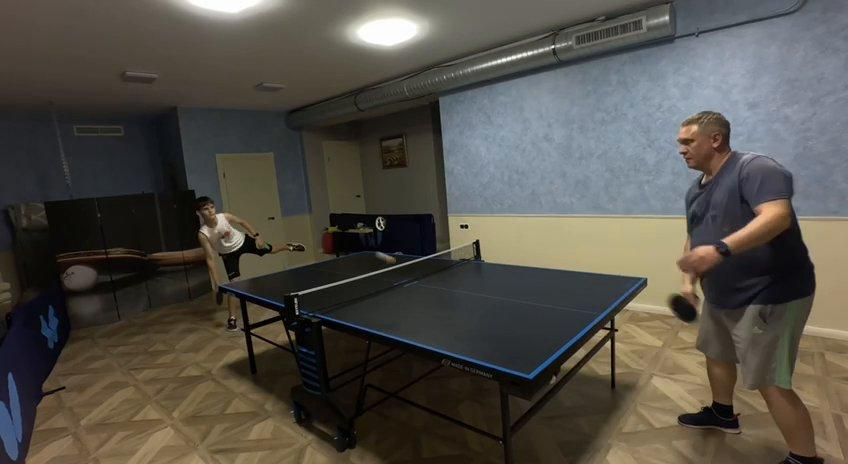Ball: (374, 251, 398, 264)
Net: (284, 240, 481, 321)
Player1: (195, 196, 311, 303)
Player2: (677, 113, 823, 463)
Table: (227, 254, 646, 380)
